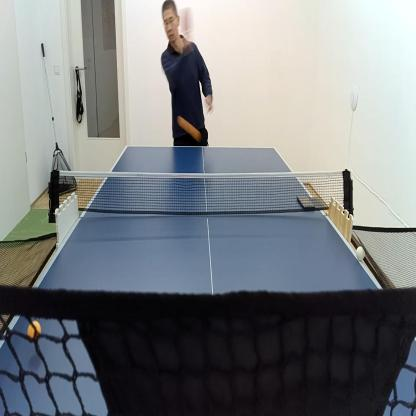Ball: (176, 113, 202, 144), (26, 318, 42, 346), (355, 242, 367, 263)
